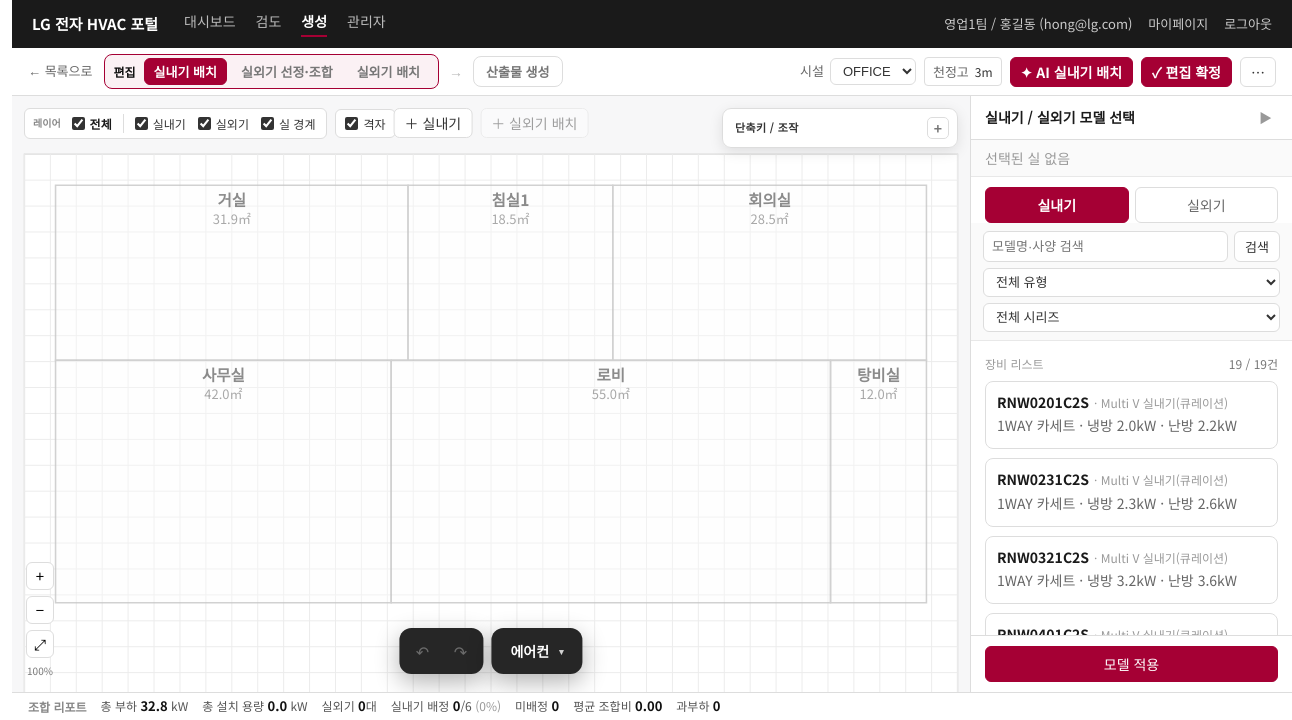
Test: App — 편집 모드 · 편집 확정 가드 › 편집 도구는 가드 팝업 없이 자유롭게 전환된다
Step 1. Click the button "실외기 선정·조합" → (287, 72), box left=231, top=58, right=343, bottom=85
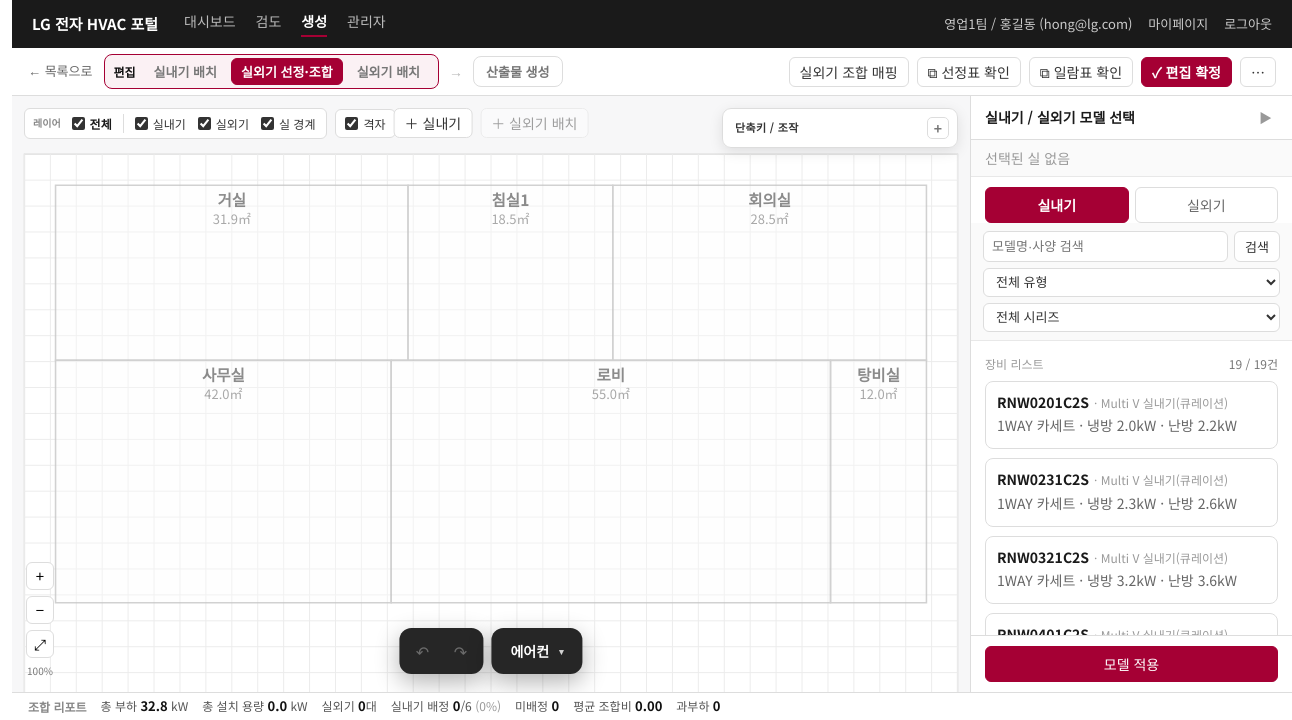
Result: the button "실외기 조합 매핑" is shown at left=789, top=56, right=909, bottom=86
